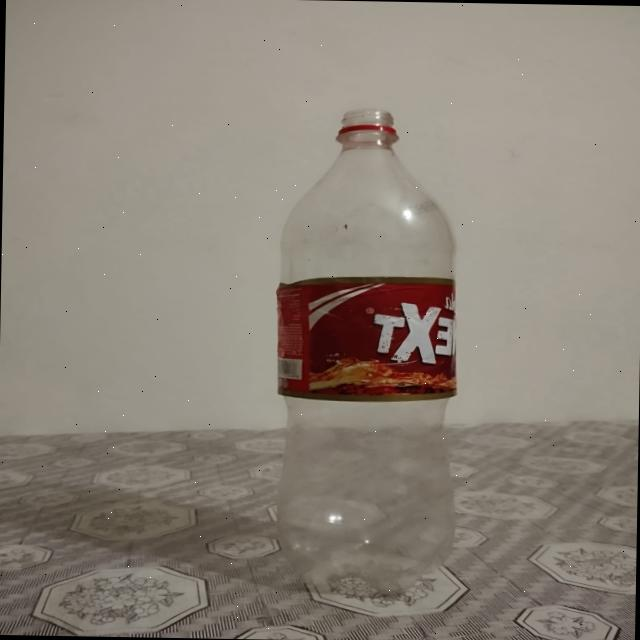bottle: (257, 102, 464, 598)
label: (269, 274, 453, 404)
